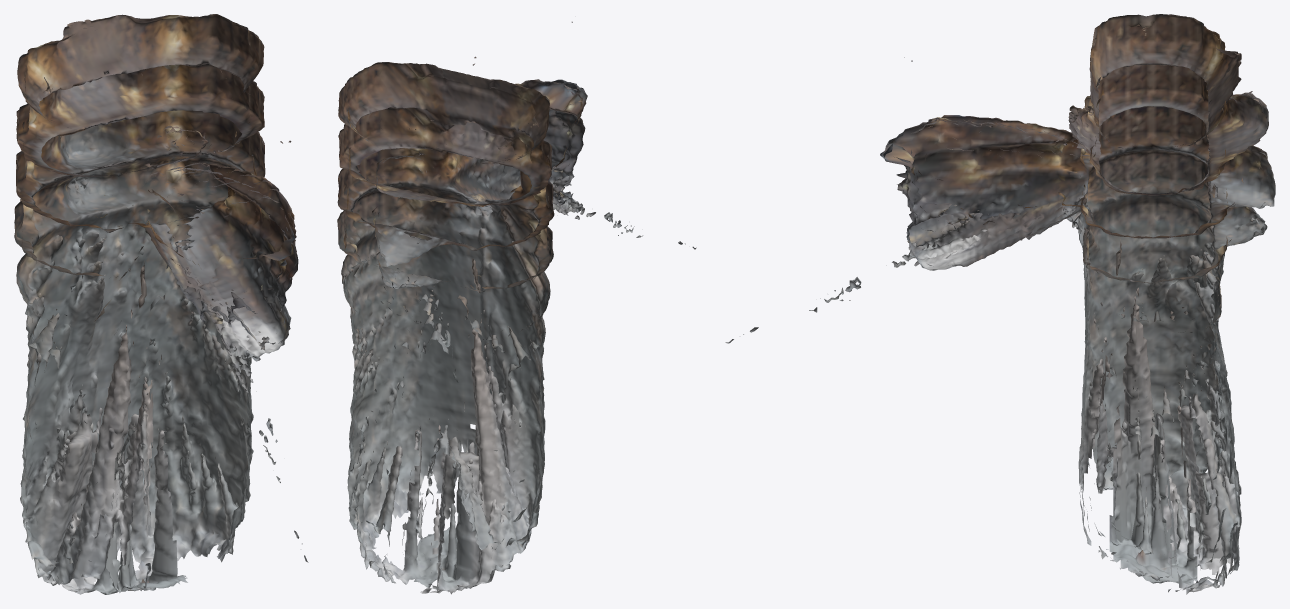
The model's file is gen-7.glb.
The picture shows the model from 3 angles, left to right: view 1: azimuth 30°, elevation 25°; view 2: azimuth 150°, elevation 25°; view 3: azimuth 270°, elevation 25°; orthographic projection. The views are drawn at different scales.
Visible parts, largest first — view 1: world; view 2: world; view 3: world.
Part boxes in pixels (x1,y1,x2,y2): world: (14,14,308,594); world: (337,21,696,594); world: (725,14,1275,594).
Bounding box in the file's own units: 3.01 × 7.17 × 6.86.
